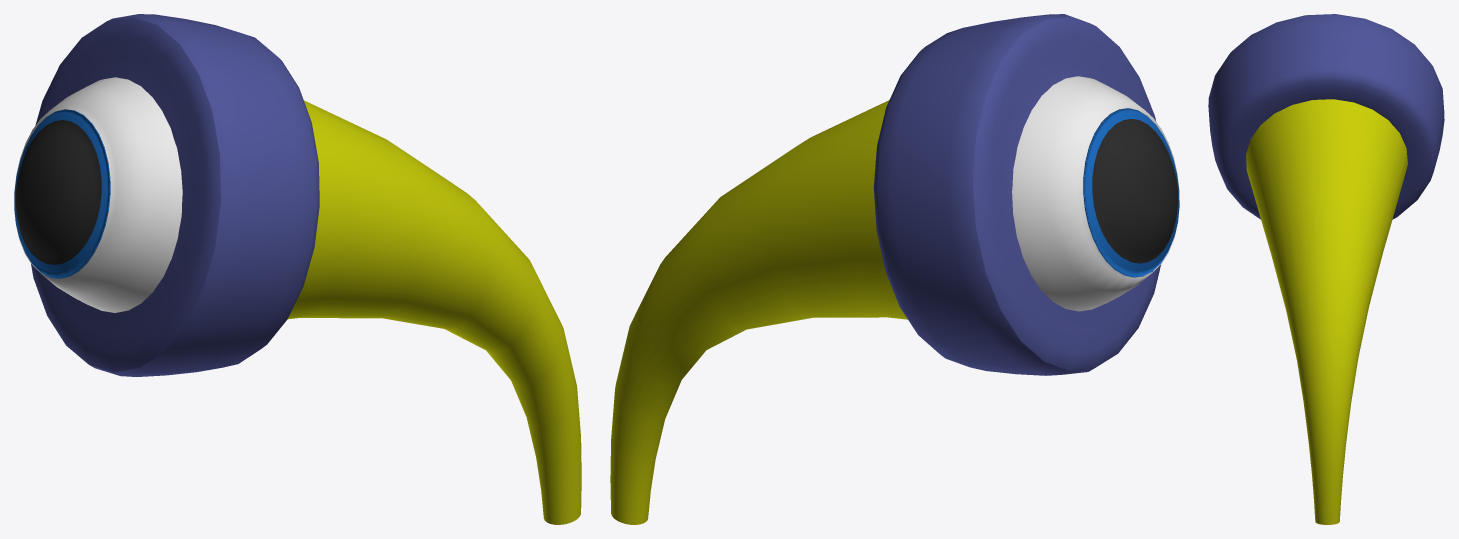
The model's file is arrow_periscope.fbx.
The picture shows the model from 3 angles, left to right: view 1: azimuth 30°, elevation 25°; view 2: azimuth 150°, elevation 25°; view 3: azimuth 270°, elevation 25°; orthographic projection. The views are drawn at different scales.
Parts seen in each view (by area): view 1: Circle.030; view 2: Circle.030; view 3: Circle.030.
Part boxes in pixels (x1,y1,x2,y2): Circle.030: (14,14,581,524); Circle.030: (610,14,1179,524); Circle.030: (1208,14,1444,524).
Bounding box in the file's own units: 200 × 204 × 114.
